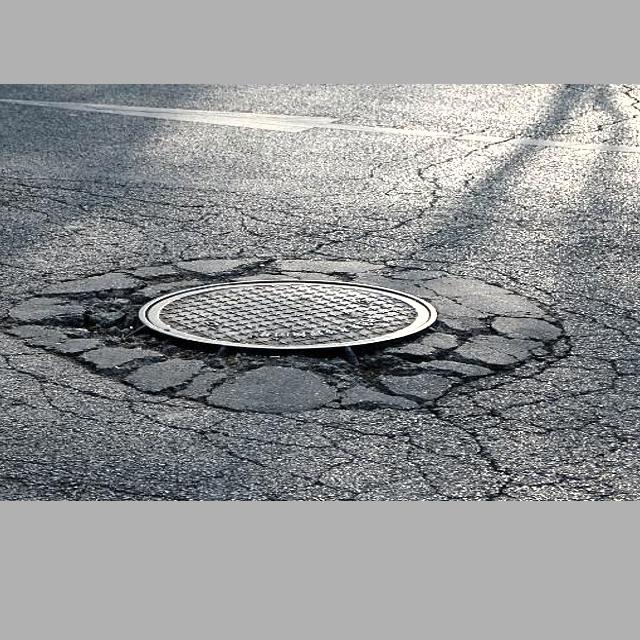circle: (55, 251, 586, 433)
